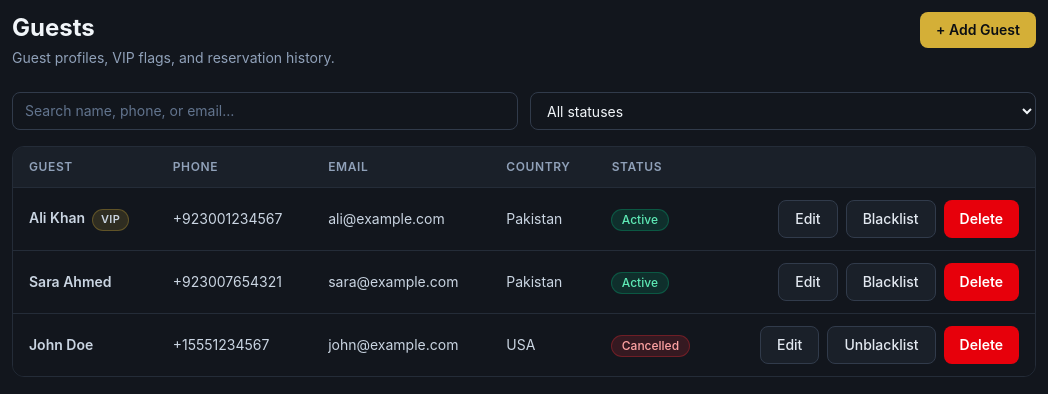
Scenario: GuestsPage › filters by blacklist status
Check: the button "Ali Khan VIP" is shown, box [29,208,128,230]
Select "Blacklisted" in the dropdown named "Filter by status": x=783, y=111 [530,92,1036,130]
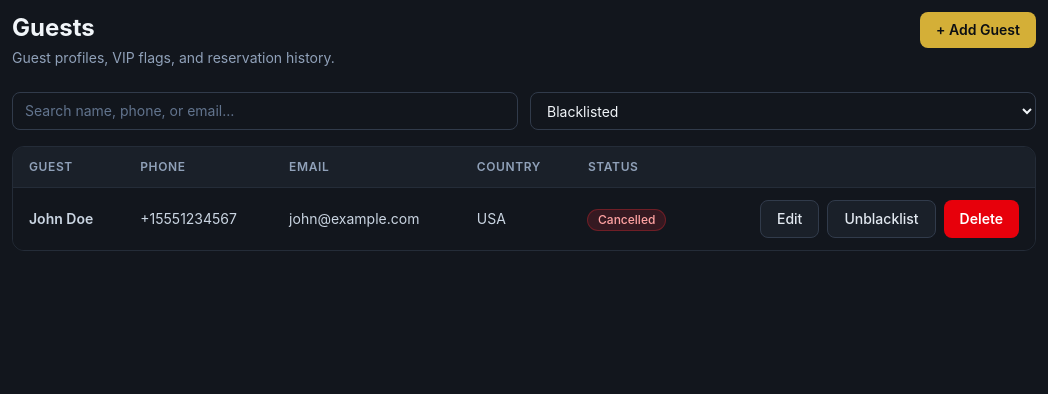
Check: the button "John Doe" is shown, box [29,209,93,229]
Check: the button "Ali Khan" is gone
